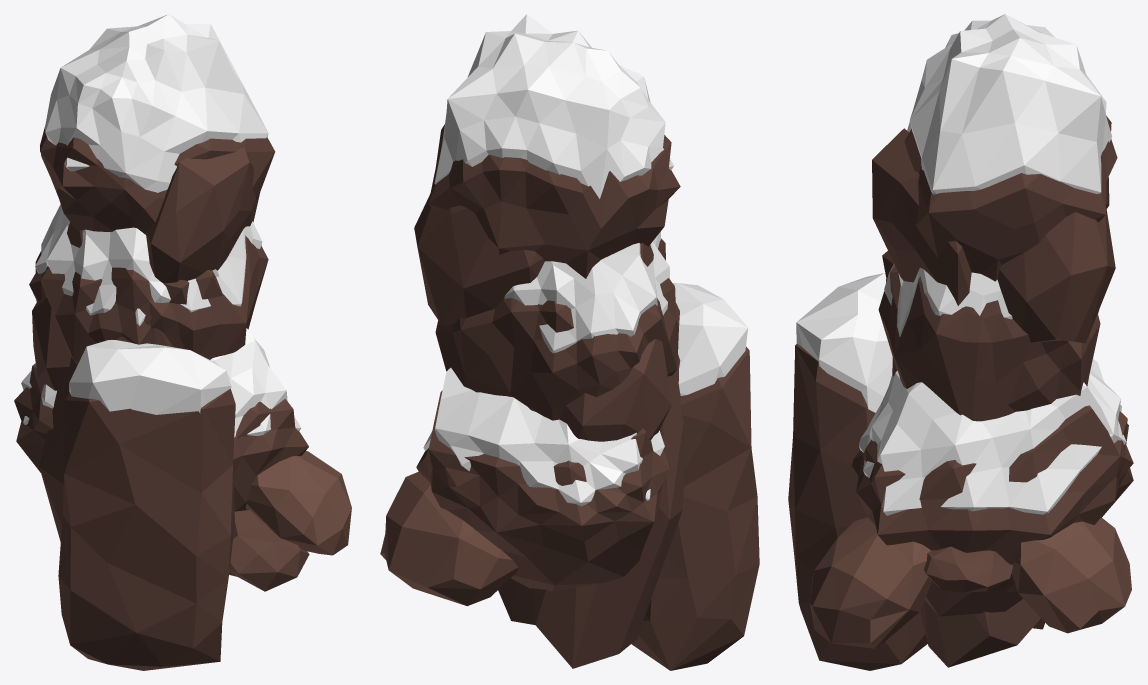
File: snow_rock_021.fbx
The picture shows the model from 3 angles, left to right: view 1: azimuth 30°, elevation 25°; view 2: azimuth 150°, elevation 25°; view 3: azimuth 270°, elevation 25°; orthographic projection. The views are drawn at different scales.
Visible parts, largest first — view 1: snow_rock_021; view 2: snow_rock_021; view 3: snow_rock_021.
Boxes of the visible parts, x1,y1,x2,y2 form: snow_rock_021: [14, 14, 351, 670]; snow_rock_021: [380, 14, 759, 670]; snow_rock_021: [788, 14, 1133, 670].
Bounding box in the file's own units: 1553 × 1502 × 3155.
